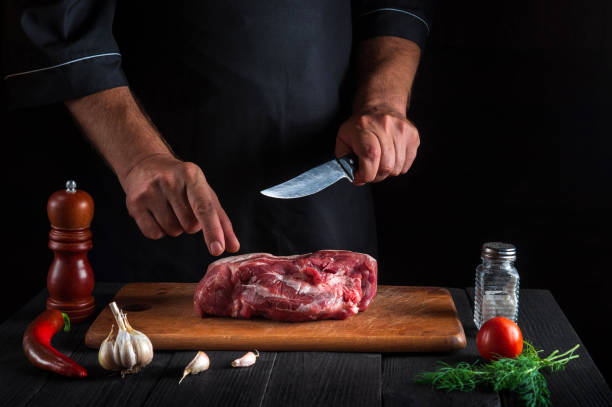knife: (257, 155, 355, 200)
